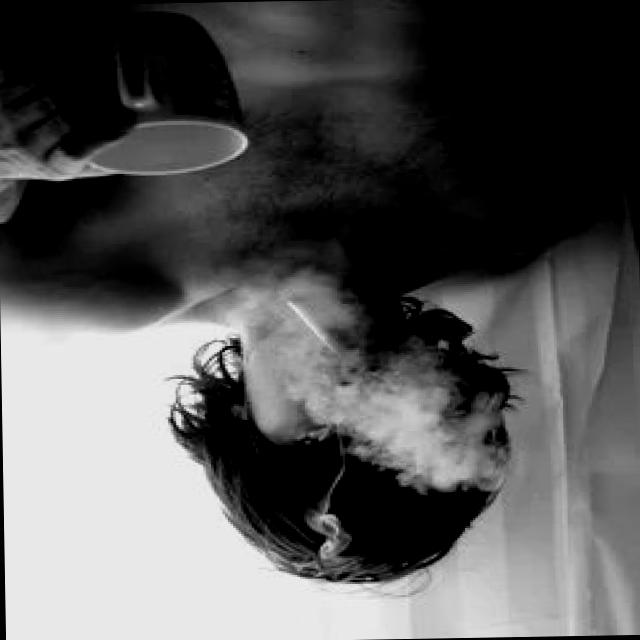cigarette: (284, 296, 348, 362)
